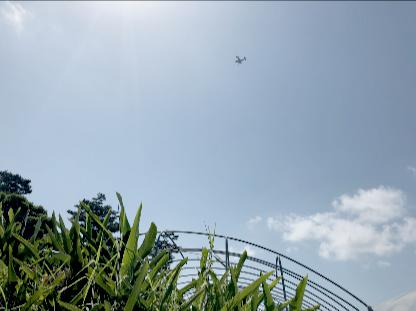Tornado: (234, 51, 245, 64)
